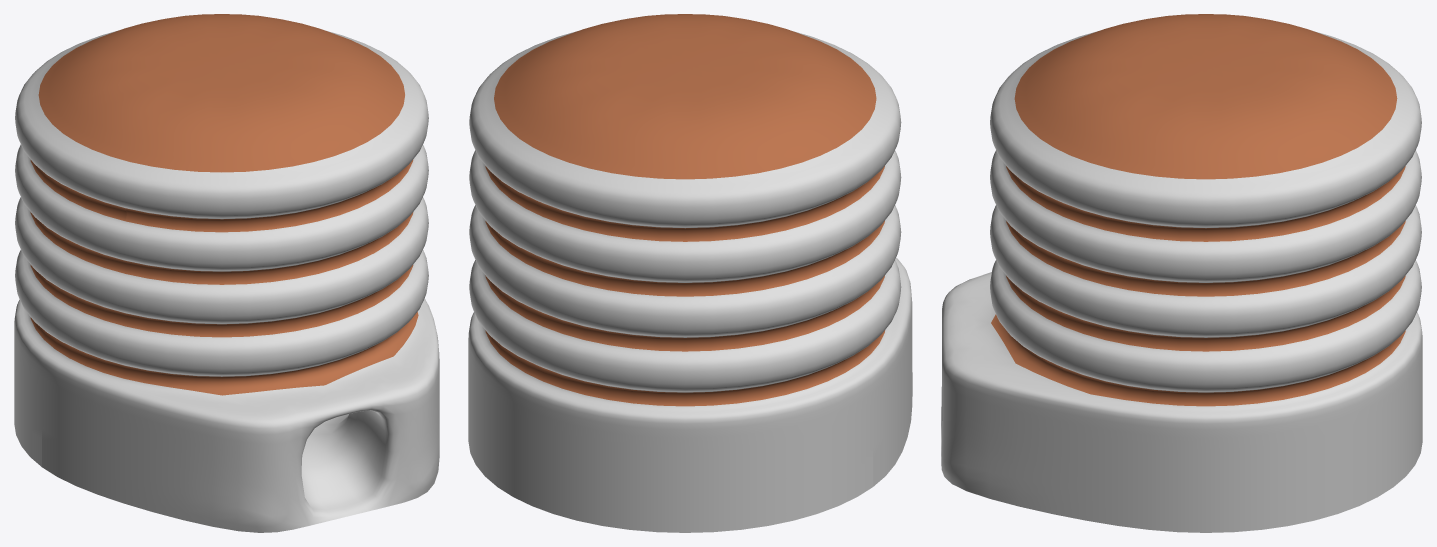
Rendered from habitat.glb.
3 renders of one model, left to right at view 1: azimuth 30°, elevation 25°; view 2: azimuth 150°, elevation 25°; view 3: azimuth 270°, elevation 25°, orthographic. The views are drawn at different scales.
Visible parts, largest first — view 1: Habitat-col; view 2: Habitat-col; view 3: Habitat-col.
Part boxes in pixels (bbox=[...]): Habitat-col: bbox=[14, 14, 439, 532]; Habitat-col: bbox=[468, 14, 912, 532]; Habitat-col: bbox=[941, 14, 1422, 532].
Bounding box in the file's own units: 11.46 × 11 × 12.73.
